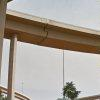Bridge: (13, 3, 93, 71)
